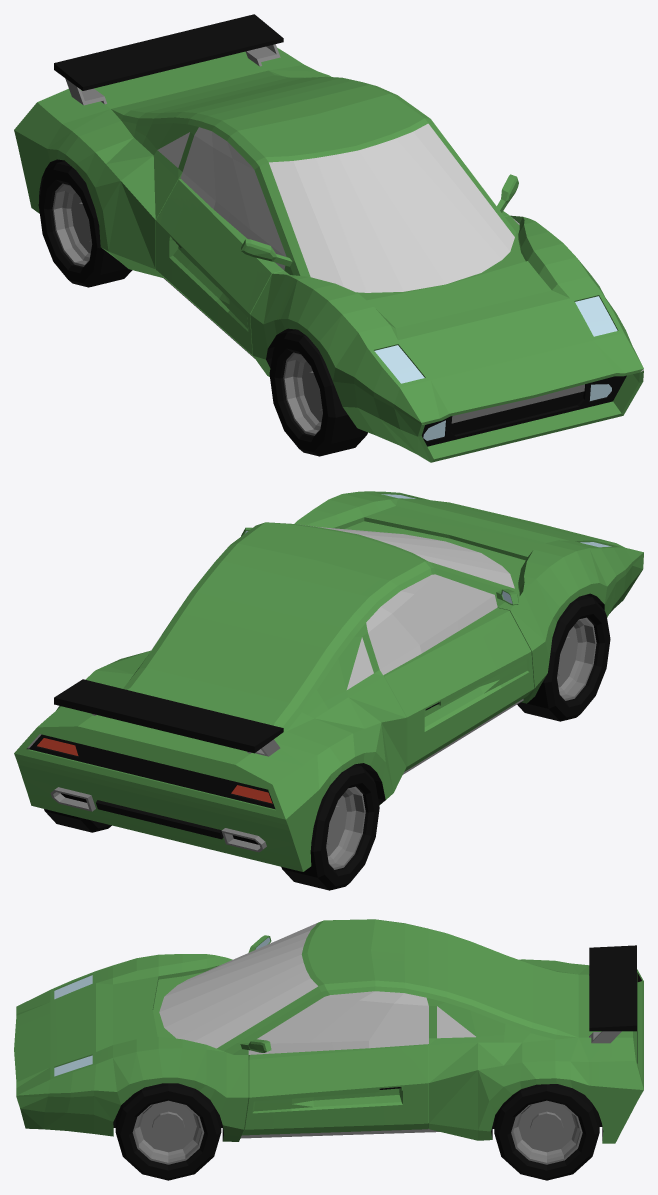
Rendered from Vehicle_Supercar01_Static.fbx.
3 views of the same model, one above another, from view 1: azimuth 30°, elevation 25°; view 2: azimuth 150°, elevation 25°; view 3: azimuth 270°, elevation 25° (orthographic). The views are drawn at different scales.
Parts seen in each view (by area): view 1: Vehicle_Supercar01; view 2: Vehicle_Supercar01; view 3: Vehicle_Supercar01.
Boxes of the visible parts, box(x1,y1,x2,y2) form: Vehicle_Supercar01: box(14, 14, 643, 462); Vehicle_Supercar01: box(14, 491, 643, 890); Vehicle_Supercar01: box(14, 919, 643, 1180).
Size of what is drawn, in the model's own units: 193 by 450 by 139.
